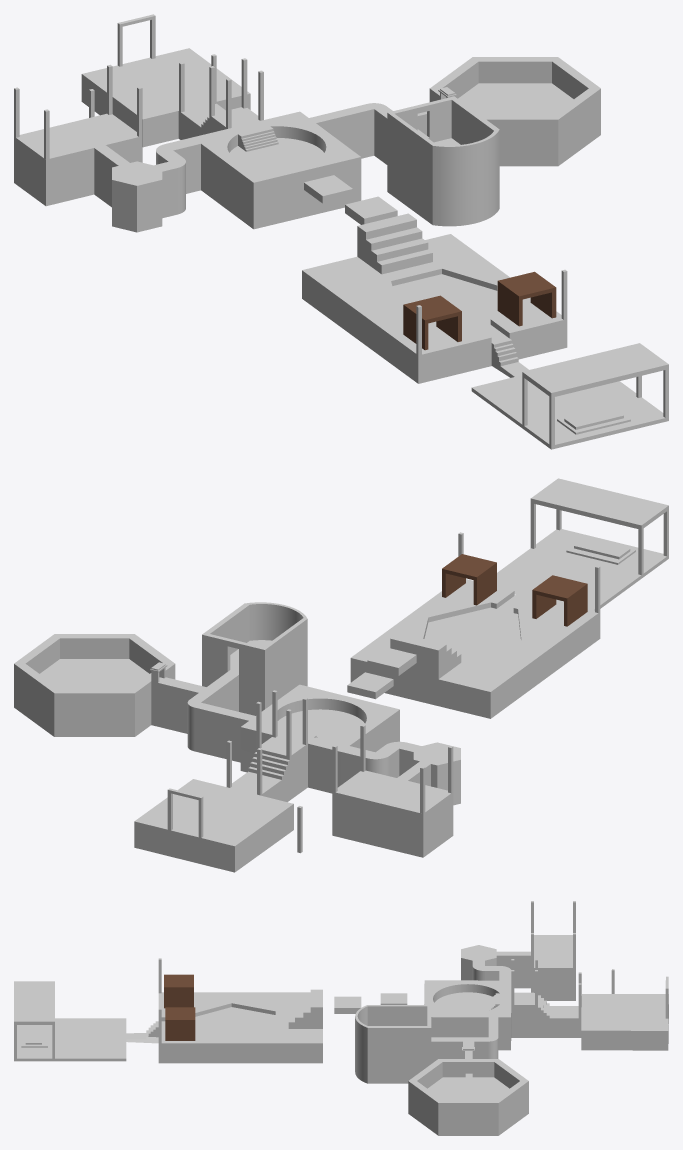
3 renders of one model, top to bottom at view 1: azimuth 30°, elevation 25°; view 2: azimuth 150°, elevation 25°; view 3: azimuth 270°, elevation 25°, orthographic. The views are drawn at different scales.
Visible parts, largest first — view 1: Model, Group18, Group20, Group19; view 2: Model, Group18, Group19, Group20; view 3: Model, Group18, Group20, Group19.
Boxes of the visible parts, x1=… form: Model: x1=14, y1=14, x2=668, y2=434; Group18: x1=471, y1=375, x2=668, y2=449; Group20: x1=497, y1=271, x2=556, y2=326; Group19: x1=403, y1=295, x2=461, y2=350; Model: x1=14, y1=478, x2=668, y2=872; Group18: x1=497, y1=529, x2=668, y2=610; Group19: x1=532, y1=575, x2=587, y2=626; Group20: x1=442, y1=554, x2=496, y2=605; Model: x1=14, y1=935, x2=668, y2=1135; Group18: x1=14, y1=1018, x2=126, y2=1061; Group20: x1=165, y1=1007, x2=195, y2=1040; Group19: x1=164, y1=974, x2=193, y2=1008.
Size of the model in its own units: 27412 by 5631 by 45137.
